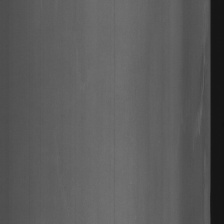silk_spot: (191, 35, 208, 142)
